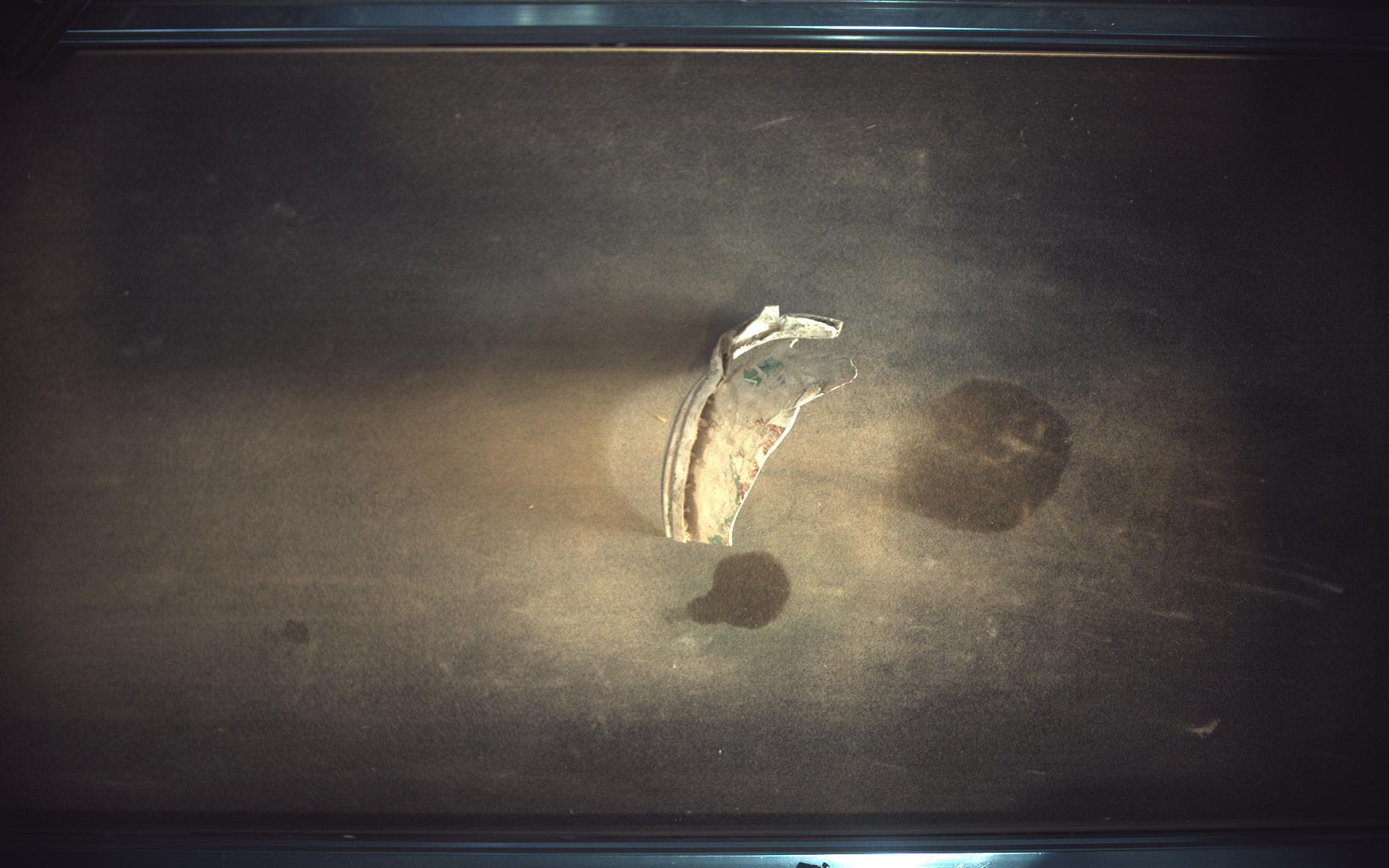plastic: (663, 306, 858, 545)
